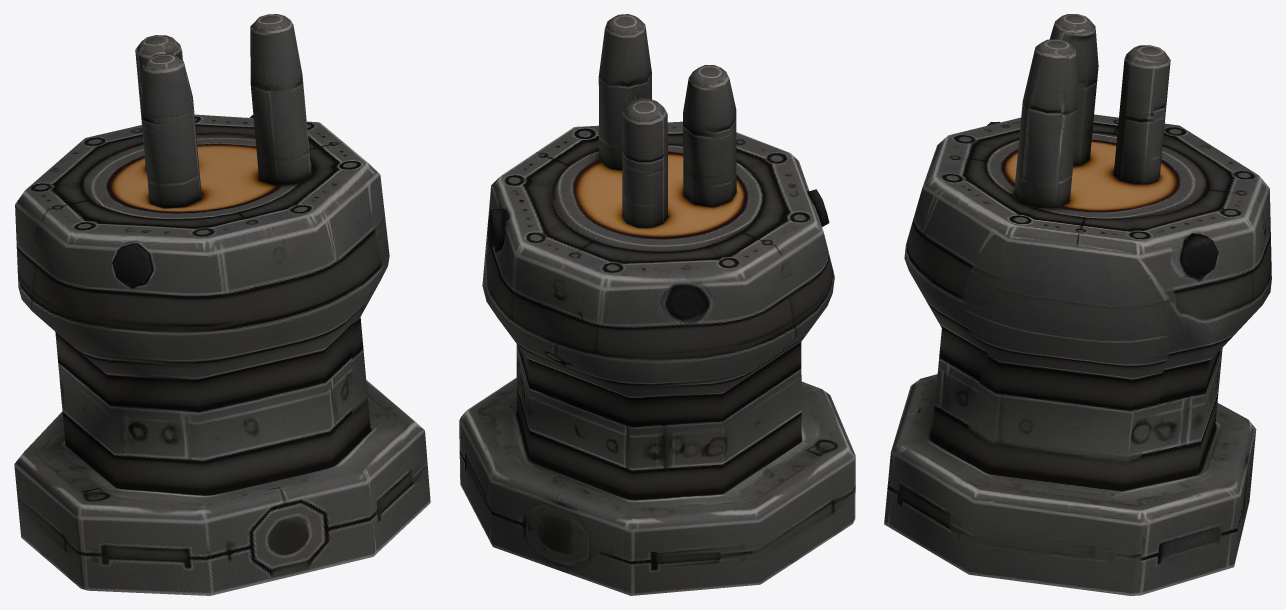
The model's file is cold-iron-v2-electrical-terminal-a.glb.
The picture shows the model from 3 angles, left to right: view 1: azimuth 30°, elevation 25°; view 2: azimuth 150°, elevation 25°; view 3: azimuth 270°, elevation 25°; orthographic projection. The views are drawn at different scales.
Parts seen in each view (by area): view 1: tripo_node_80e26d54-8be1-4ecb-a6ec-81bfd9170c44; view 2: tripo_node_80e26d54-8be1-4ecb-a6ec-81bfd9170c44; view 3: tripo_node_80e26d54-8be1-4ecb-a6ec-81bfd9170c44.
Boxes of the visible parts, left/top/right/bottom form: tripo_node_80e26d54-8be1-4ecb-a6ec-81bfd9170c44: left=14, top=14, right=430, bottom=595; tripo_node_80e26d54-8be1-4ecb-a6ec-81bfd9170c44: left=459, top=14, right=855, bottom=595; tripo_node_80e26d54-8be1-4ecb-a6ec-81bfd9170c44: left=884, top=14, right=1271, bottom=595.
Bounding box in the file's own units: 0.7561 × 1.05 × 0.7243.
1 material, 1 textured.
